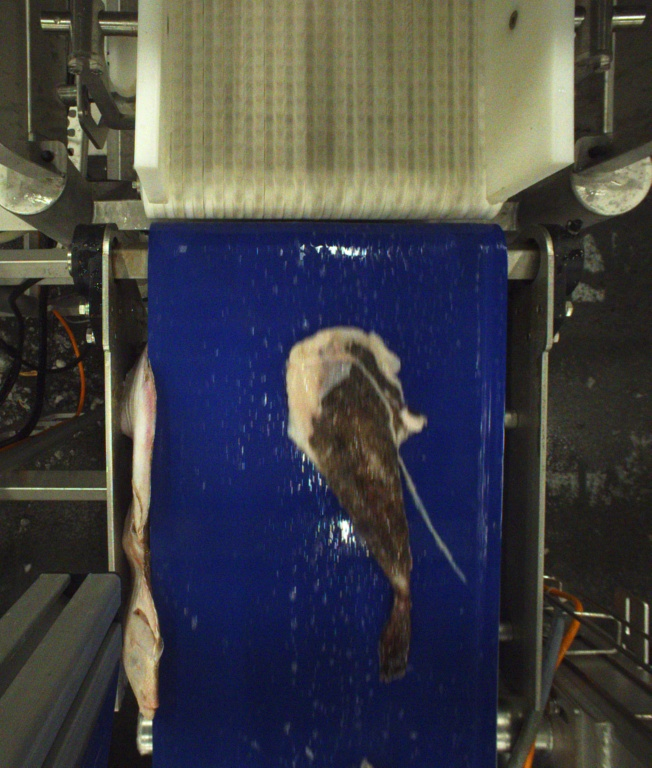ANF: (289, 322, 422, 674)
